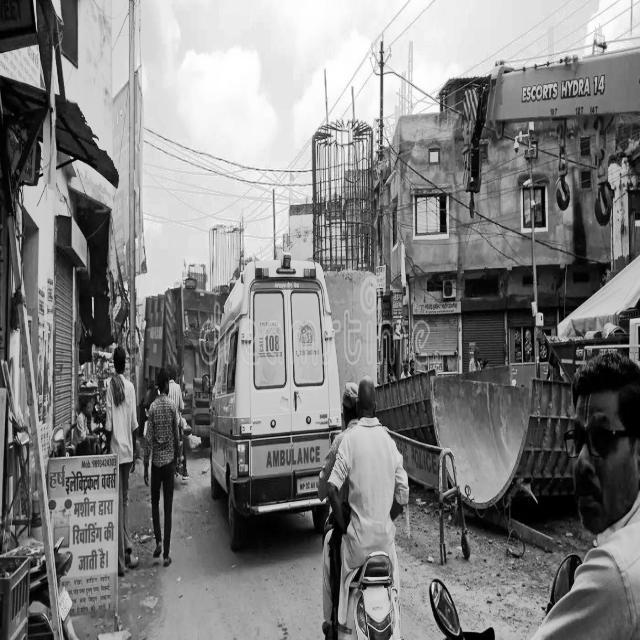Ambulance: (206, 264, 326, 545)
